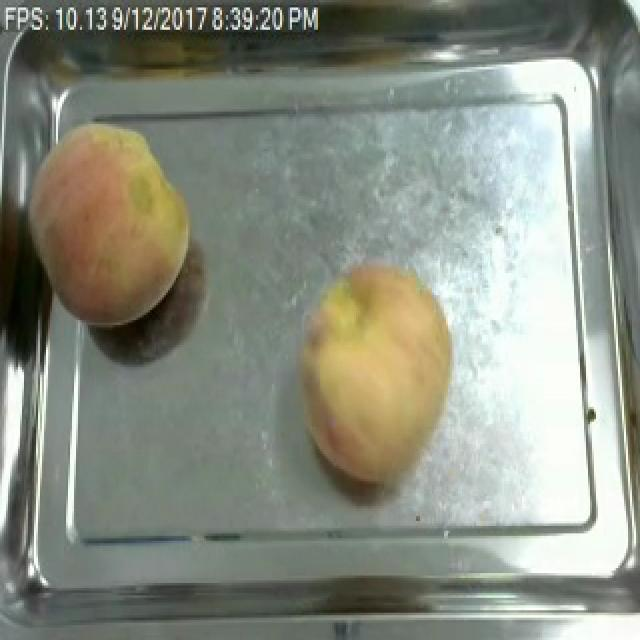Fruit: (286, 251, 464, 488), (18, 112, 202, 335)
